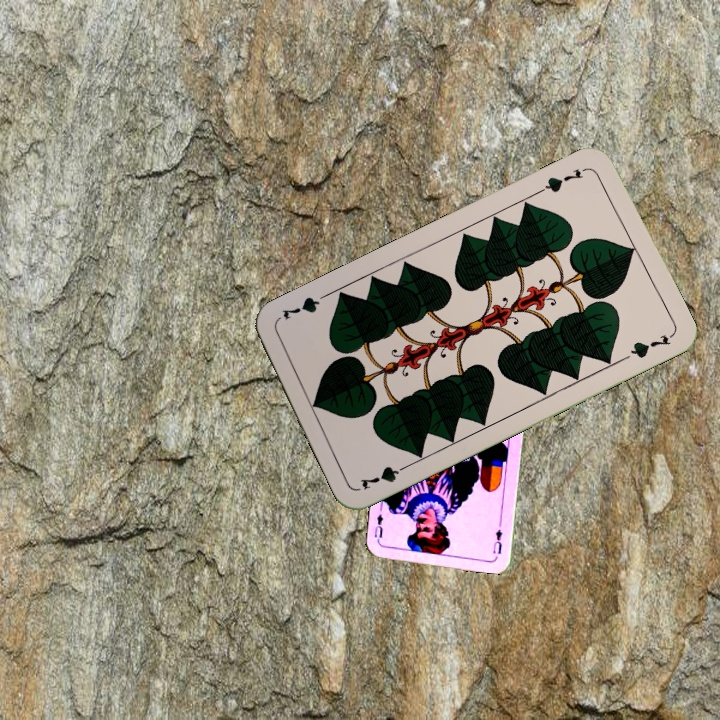EU: (489, 525, 504, 556)
G7: (356, 459, 413, 493), (535, 163, 591, 196)
